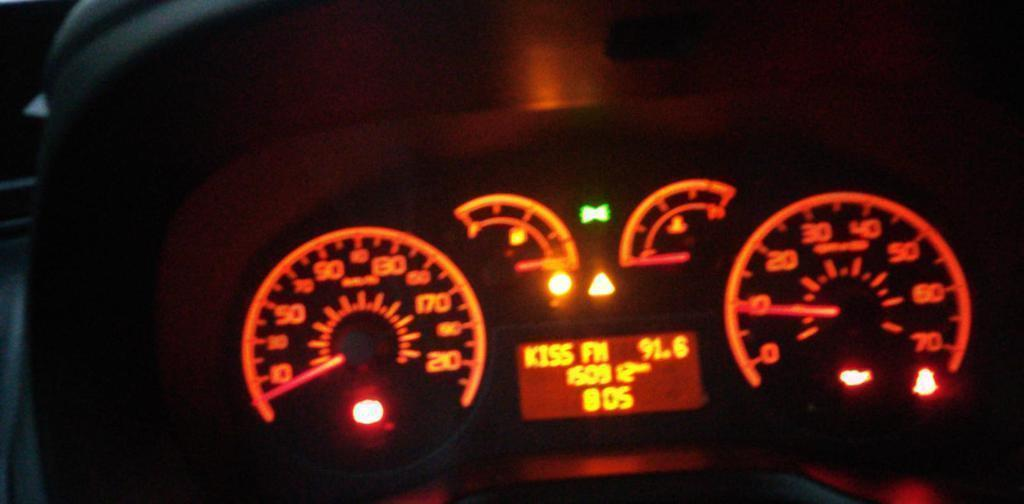,: (662, 348, 670, 359)
0: (601, 386, 617, 410), (584, 364, 598, 384)
1: (653, 335, 662, 360), (564, 367, 573, 386), (615, 363, 623, 383)
2: (624, 362, 634, 382)
5: (618, 385, 635, 412), (574, 365, 584, 386)
6: (673, 333, 690, 359)
8: (582, 387, 601, 412)
9: (638, 337, 652, 362), (600, 363, 612, 385)
X: (594, 340, 610, 362), (560, 343, 574, 366), (524, 346, 538, 367), (580, 342, 594, 362), (548, 344, 560, 366), (538, 346, 548, 367)
odometer: (508, 323, 714, 426)
